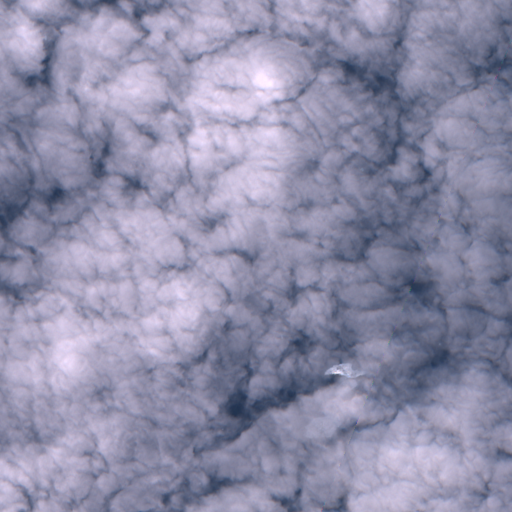Iceberg: (325, 364, 363, 376)
